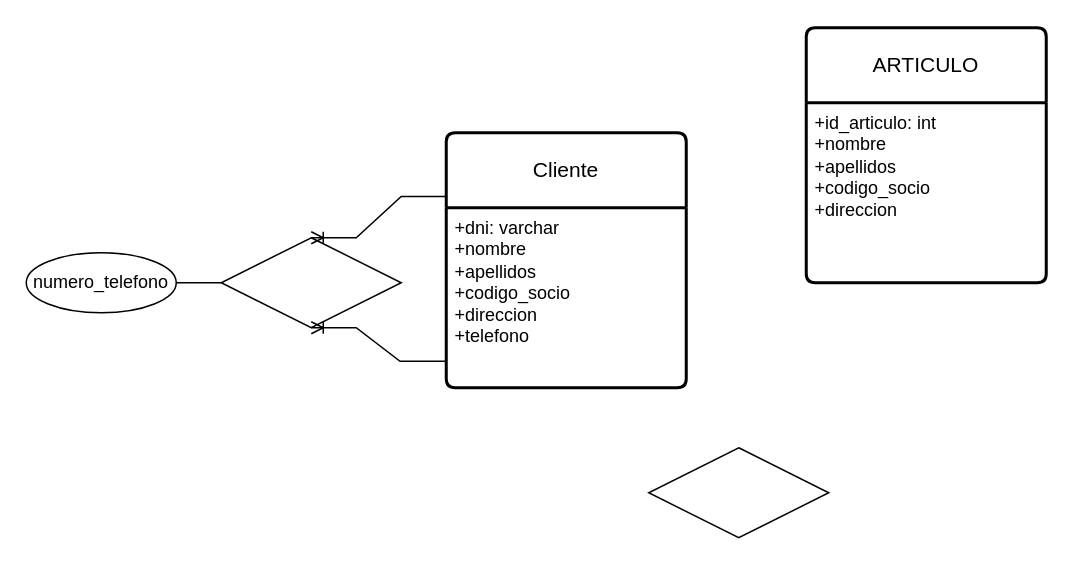
Image size: 1074x564. Some labels were removed from this diagram. Each missing label, with the centre of its shape:
Prestar: (x=738, y=492)
Telefono: (x=310, y=282)
